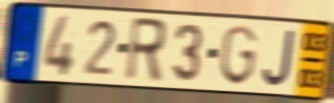2: (82, 18, 118, 78)
3: (169, 22, 206, 83)
4: (42, 13, 76, 78)
G: (218, 23, 259, 88)
J: (261, 27, 298, 88)
R: (122, 15, 168, 85)
